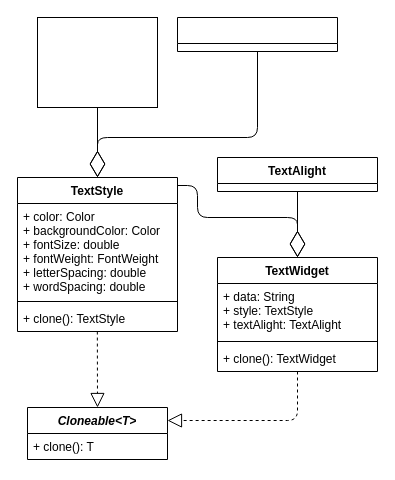
This 395x480 diagram has some shape labels left out. Here are the shapes that lost their labels. From the top down, the centre of each, then its label:
the point at 257,34: FontWeight
the point at 97,62: <<enumeration>> Color + white + black + ...
